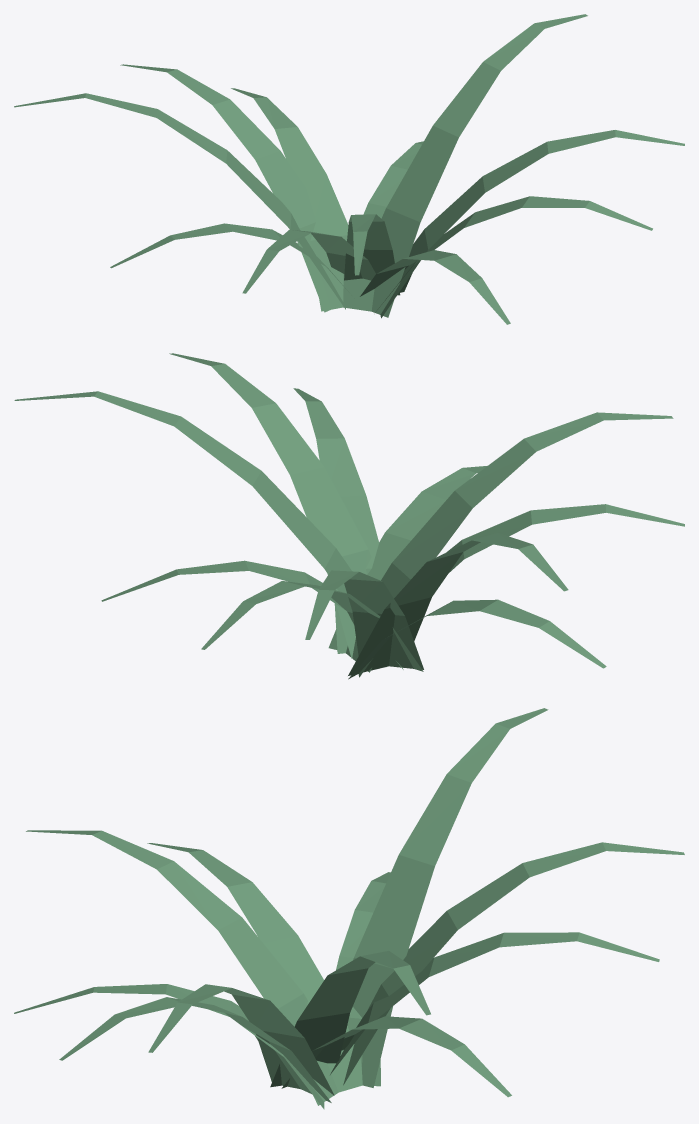
File: temperate-forest-ecology-hart-tongue-fern-clump-e3c6570b__3846.glb
3 views of the same model, one above another, from view 1: azimuth 30°, elevation 25°; view 2: azimuth 150°, elevation 25°; view 3: azimuth 270°, elevation 25° (orthographic). The views are drawn at different scales.
Visible parts, largest first — view 1: hart-tongue-fern-clump; view 2: hart-tongue-fern-clump; view 3: hart-tongue-fern-clump.
Boxes of the visible parts, x1,y1,x2,y2 form: hart-tongue-fern-clump: [14, 14, 684, 324]; hart-tongue-fern-clump: [14, 353, 684, 679]; hart-tongue-fern-clump: [14, 708, 684, 1109].
Size of the model in its own units: 0.9517 by 0.3497 by 0.8796.
